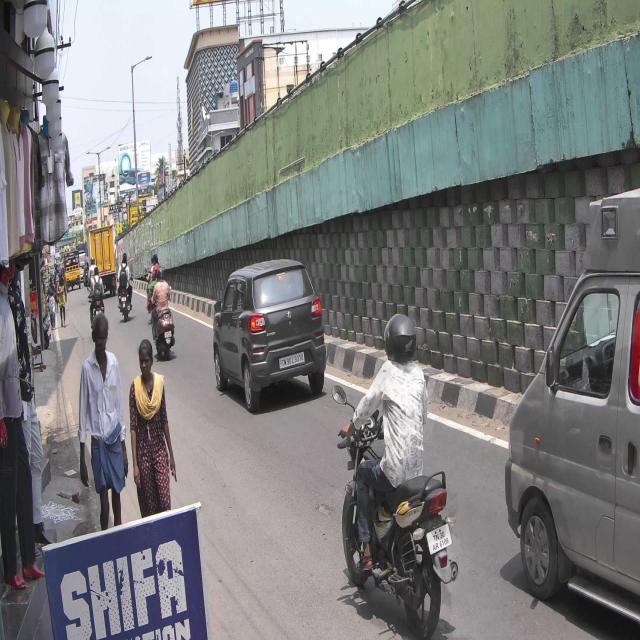single_rider: (333, 314, 458, 640)
